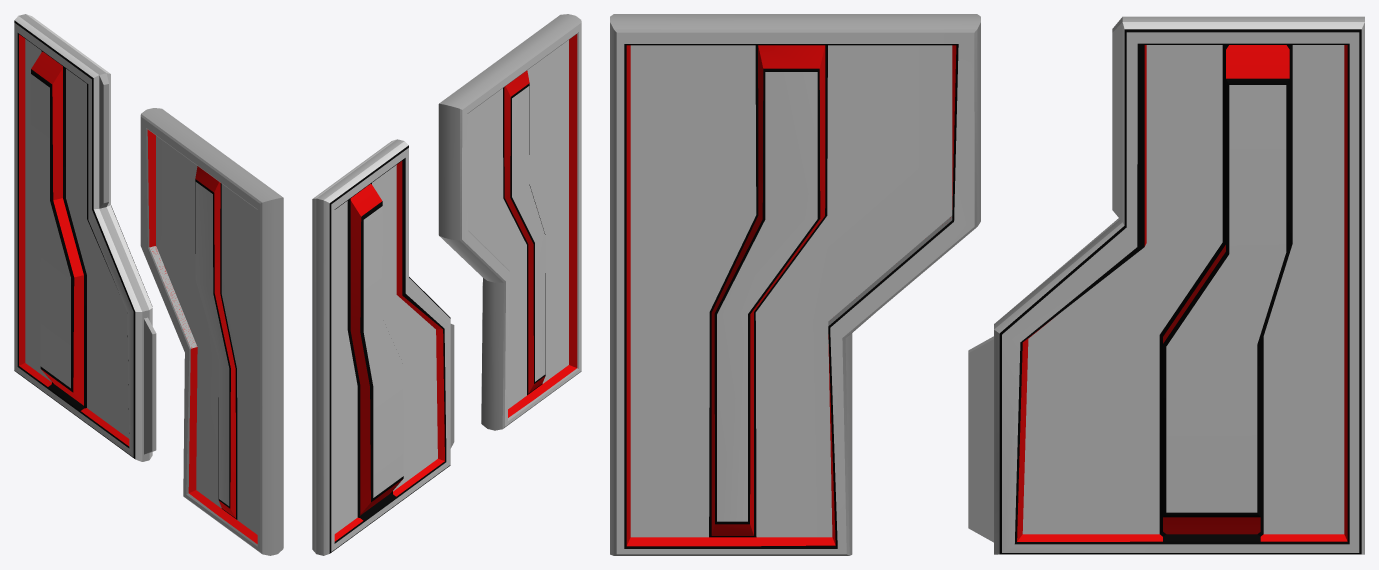
File: door2.fbx
3 renders of one model, left to right at view 1: azimuth 30°, elevation 25°; view 2: azimuth 150°, elevation 25°; view 3: azimuth 270°, elevation 25°, orthographic. The views are drawn at different scales.
Visible parts, largest first — view 1: pCube27, pCube26; view 2: pCube27, pCube26; view 3: pCube26, pCube27.
Part boxes in pixels (x1,y1,x2,y2): pCube27: (140, 108, 283, 555); pCube26: (14, 14, 156, 461); pCube27: (438, 14, 581, 430); pCube26: (312, 139, 454, 555); pCube26: (968, 16, 1364, 554); pCube27: (610, 14, 980, 555).
Bounding box in the file's own units: 1.43 × 14.02 × 18.01.
